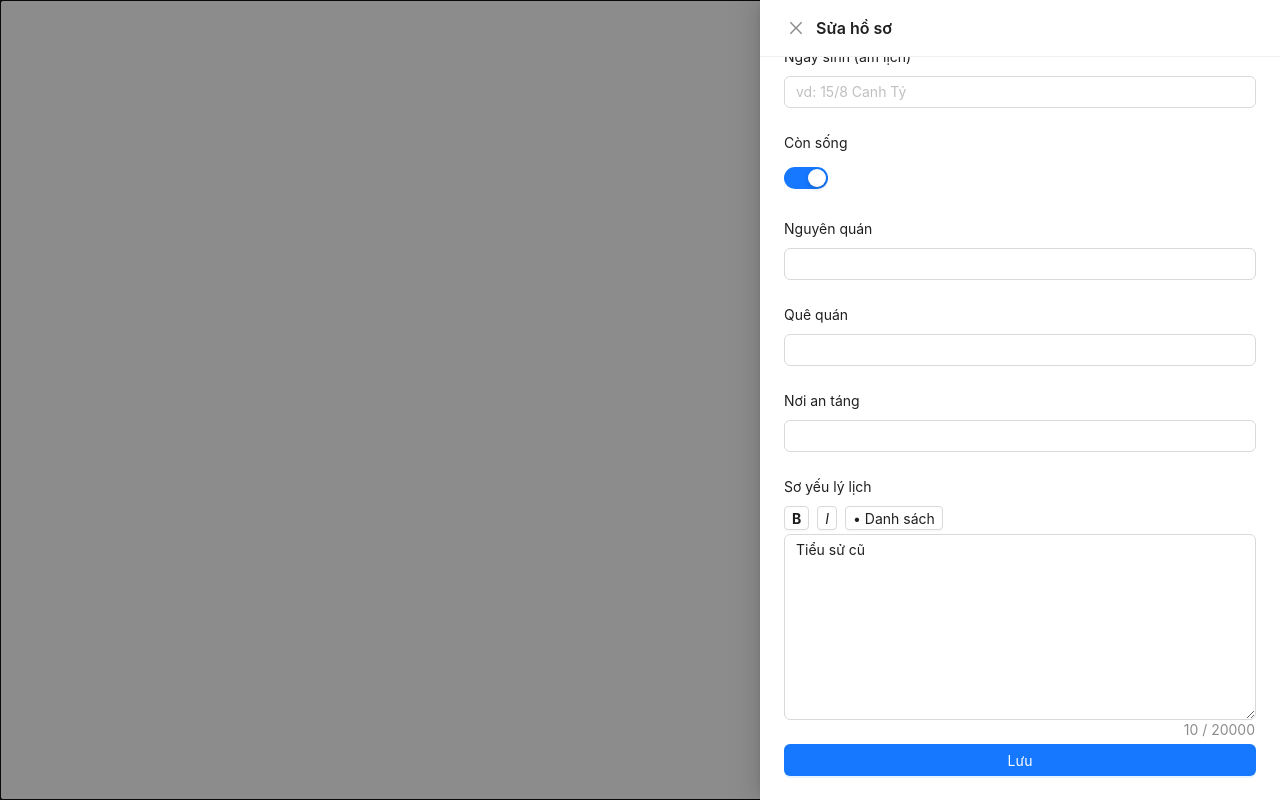
Test: xung đột phiên bản hiện thông báo và không đóng form
(page scrolled)
Click the button "Lưu".
click(1020, 760)  # box [784,744,1256,776]
(page scrolled)
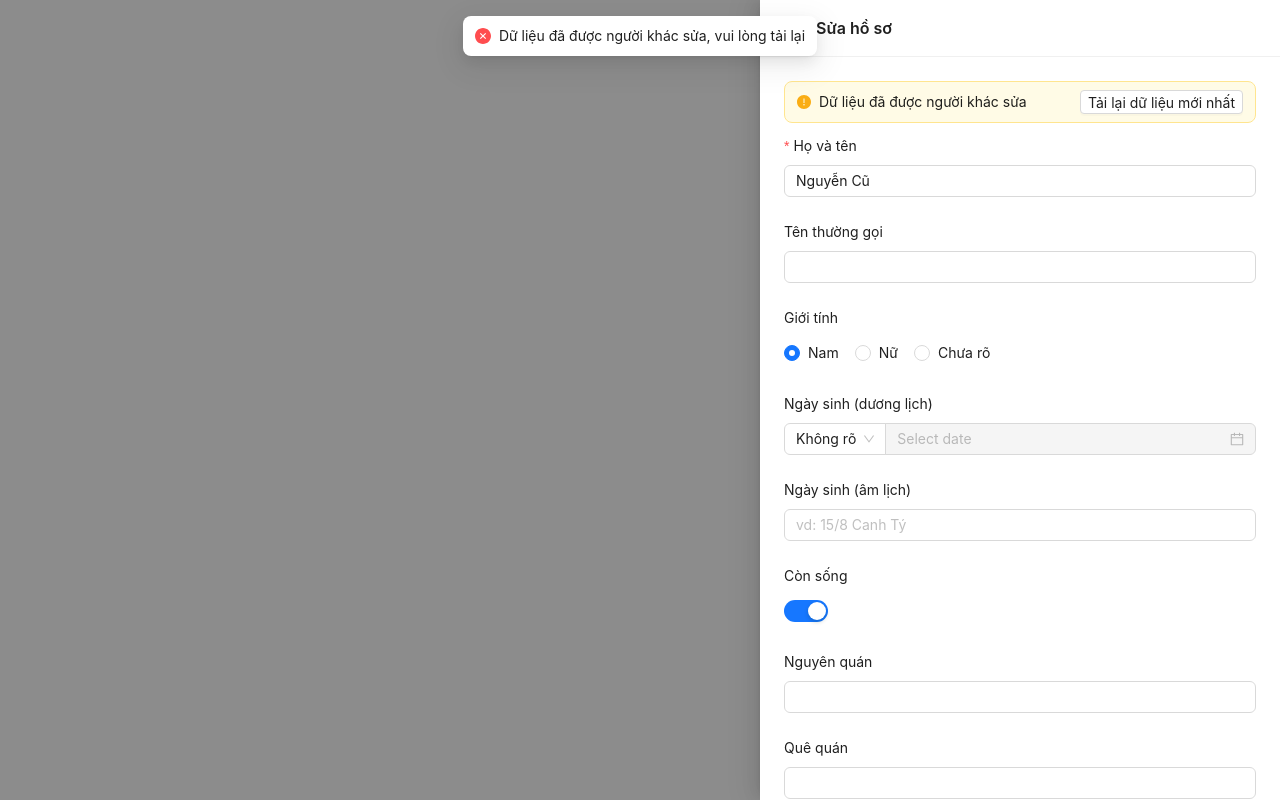
Result: the text "Dữ liệu đã được người khác sửa" is shown at [819,93,1027,110]
Result: the field labelled "Họ và tên" is shown at [784,165,1256,197]
